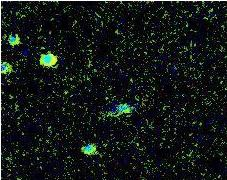star: (157, 53, 187, 83)
